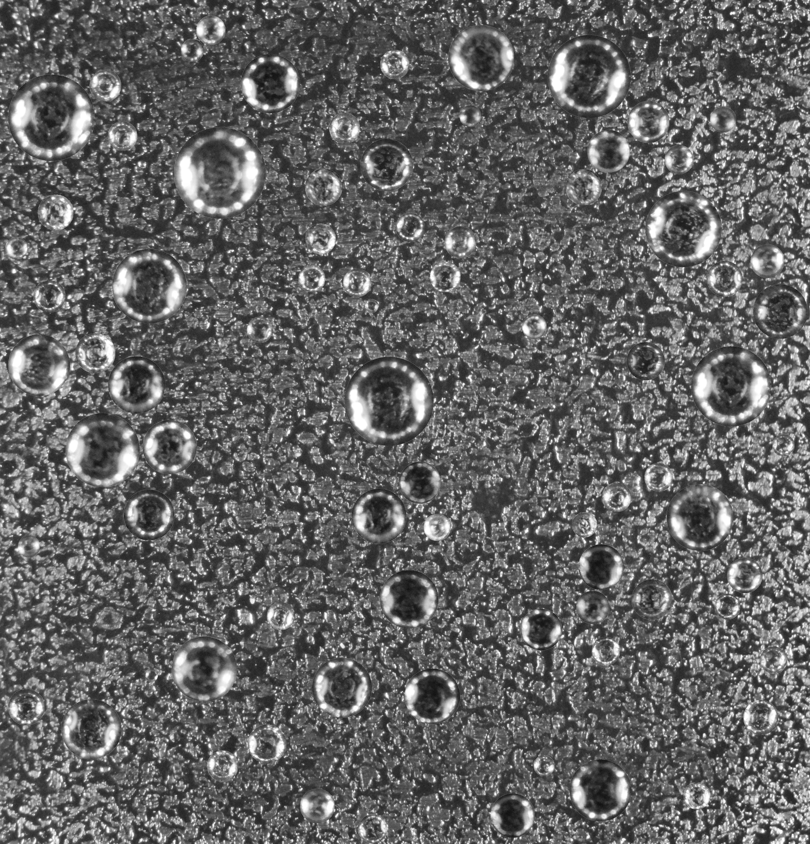Bubble: (174, 127, 265, 218), (344, 356, 433, 445), (8, 74, 94, 160), (547, 34, 630, 117), (691, 346, 771, 426), (645, 190, 721, 267), (112, 248, 186, 323), (65, 413, 139, 487), (666, 484, 733, 550), (448, 25, 514, 90), (171, 636, 236, 701), (569, 759, 631, 821), (8, 334, 69, 395), (61, 699, 121, 759), (312, 657, 371, 717), (240, 54, 299, 113), (379, 570, 438, 628), (108, 356, 165, 413), (404, 668, 460, 723), (351, 488, 406, 543), (142, 420, 196, 474), (753, 284, 807, 338), (360, 138, 412, 191), (123, 489, 174, 540), (578, 544, 624, 589), (490, 793, 534, 837), (587, 129, 629, 172), (398, 461, 440, 503), (520, 608, 561, 650), (627, 101, 669, 142), (631, 579, 672, 619), (75, 333, 115, 373), (247, 724, 286, 763), (626, 342, 664, 380), (305, 168, 342, 205), (706, 260, 742, 296), (37, 194, 73, 230), (565, 169, 601, 205), (8, 689, 44, 725), (727, 557, 762, 593), (743, 700, 778, 735), (300, 788, 334, 823), (576, 590, 609, 624), (750, 244, 784, 277), (33, 280, 65, 312), (444, 226, 476, 258), (89, 69, 121, 101), (207, 750, 238, 781), (329, 112, 359, 143), (305, 223, 335, 254), (430, 261, 460, 292), (107, 121, 137, 150), (380, 49, 409, 78), (358, 814, 387, 843), (602, 482, 631, 511), (196, 15, 225, 44), (395, 212, 424, 241), (664, 145, 693, 173), (591, 637, 620, 665), (644, 463, 672, 491), (343, 268, 371, 296), (760, 646, 787, 673), (298, 265, 325, 292), (683, 782, 710, 809), (267, 602, 294, 629), (423, 514, 450, 540), (710, 106, 736, 132), (714, 593, 740, 619), (246, 317, 272, 342), (572, 512, 597, 537), (522, 314, 546, 339), (180, 38, 203, 61), (17, 535, 39, 557), (772, 434, 794, 456), (5, 237, 27, 259), (459, 105, 481, 126), (533, 755, 554, 776), (364, 299, 378, 312), (144, 668, 157, 681), (255, 480, 263, 489)
